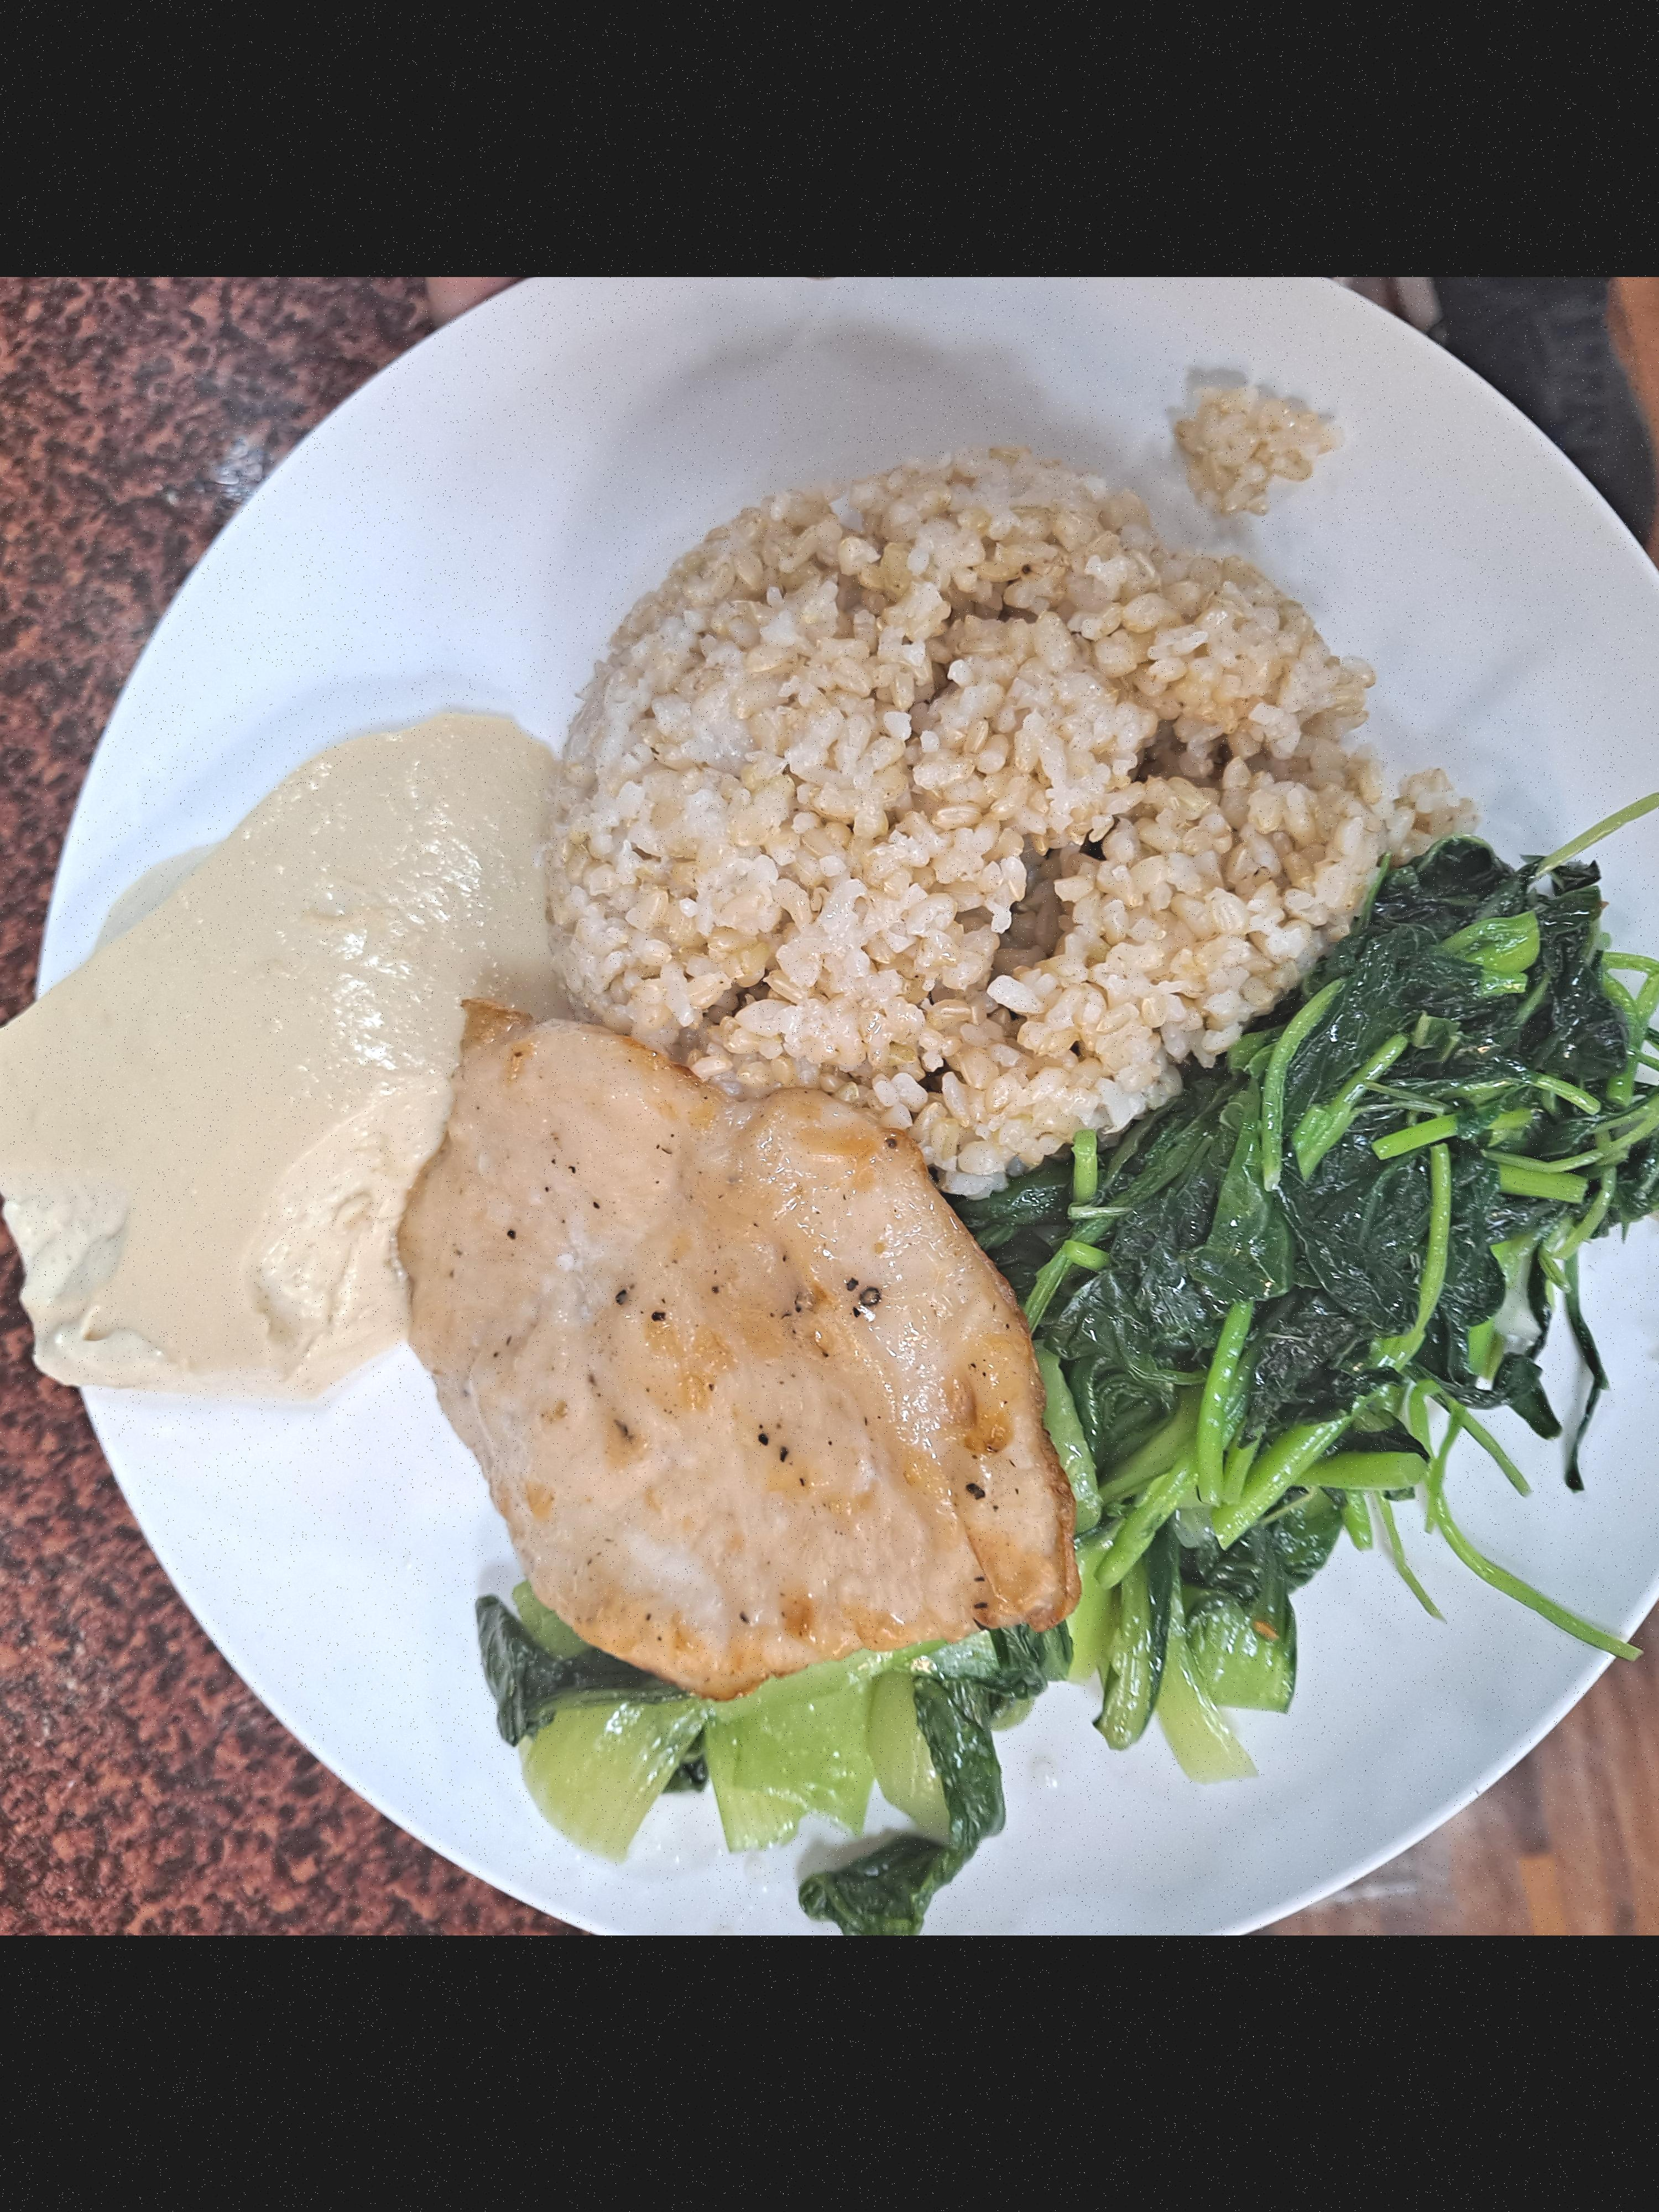brown rice: (136, 359, 573, 730)
grilled chicken steak: (61, 639, 413, 1008)
plate: (0, 277, 573, 1125)
side dish: (375, 554, 573, 1015), (0, 482, 164, 866), (89, 932, 415, 1122)
